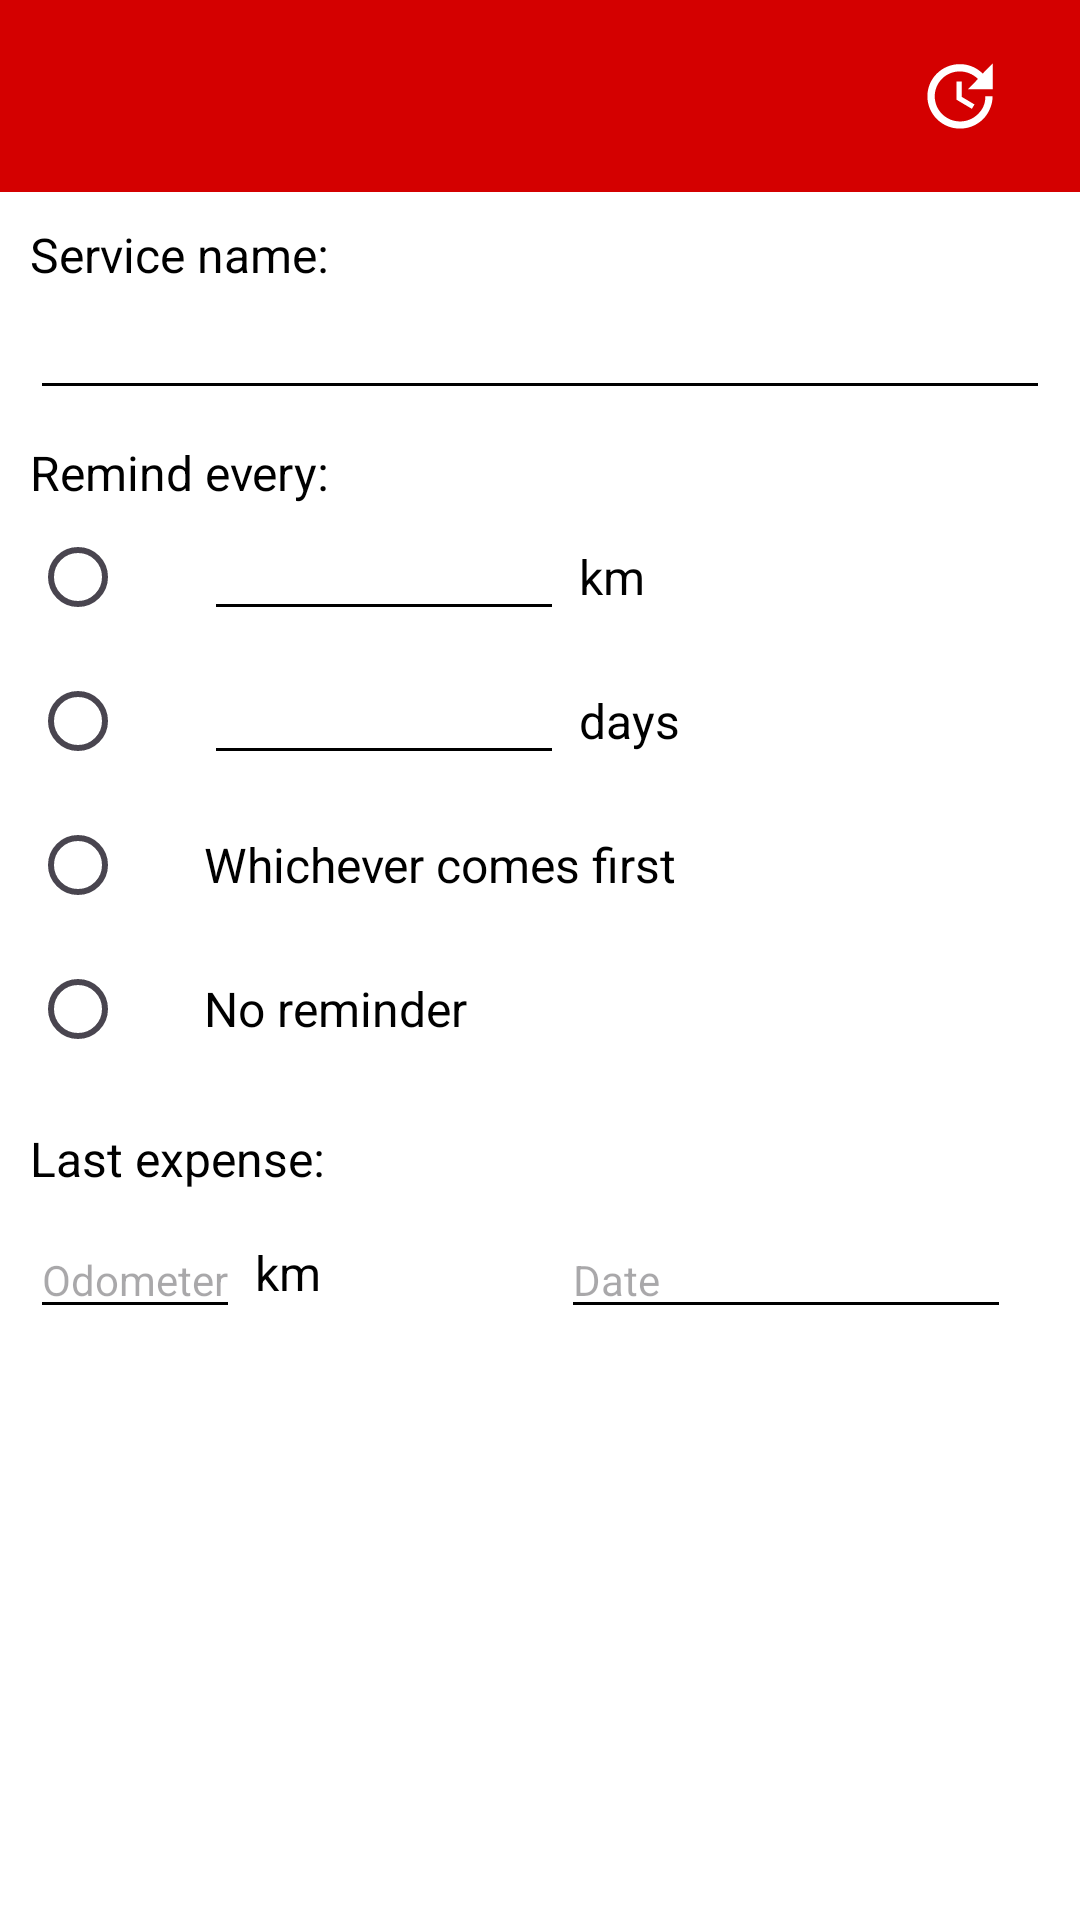

Named icons in this screenshot (1080 × 1920) and their centers, (x,y):
update: (960,96)
